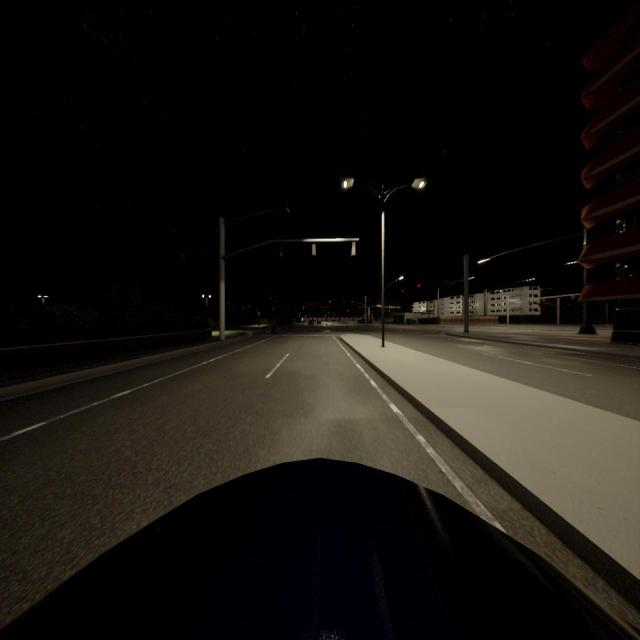Vehicle: (0, 458, 640, 640), (358, 319, 368, 324), (308, 320, 314, 325), (317, 320, 321, 324), (332, 319, 336, 322)
traffic_light: (312, 242, 316, 255), (352, 241, 355, 256), (418, 284, 420, 287), (402, 290, 404, 292), (343, 301, 345, 303), (352, 301, 353, 303)
